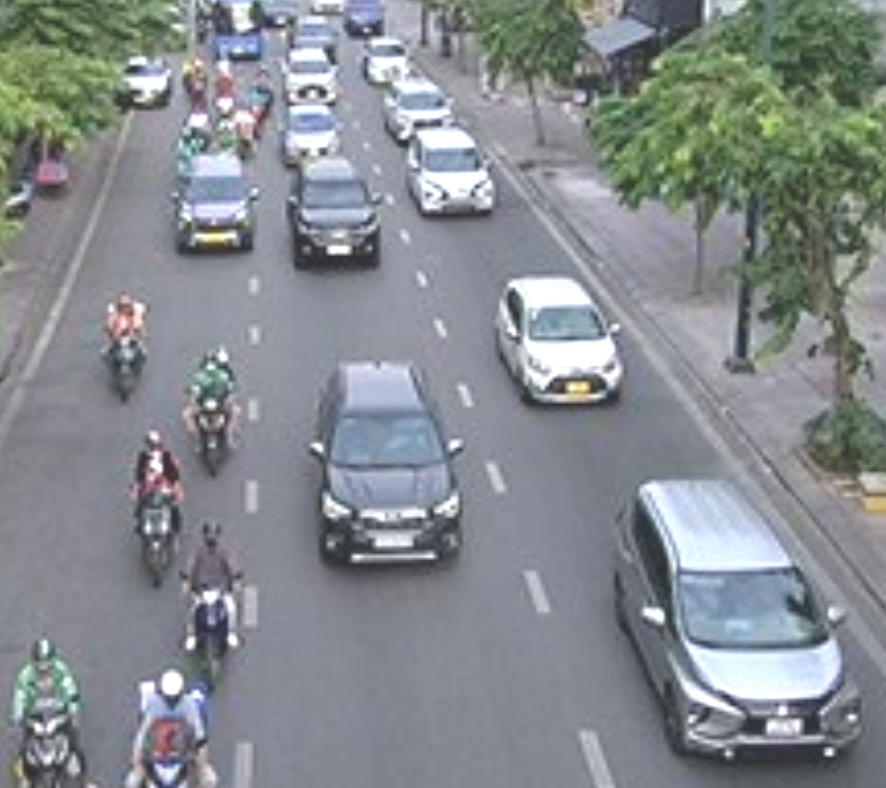car: (613, 481, 858, 761), (309, 365, 466, 571), (494, 276, 628, 410), (291, 159, 382, 272), (174, 153, 254, 254), (405, 132, 497, 217), (387, 79, 455, 143), (282, 48, 338, 108), (282, 109, 339, 166)
